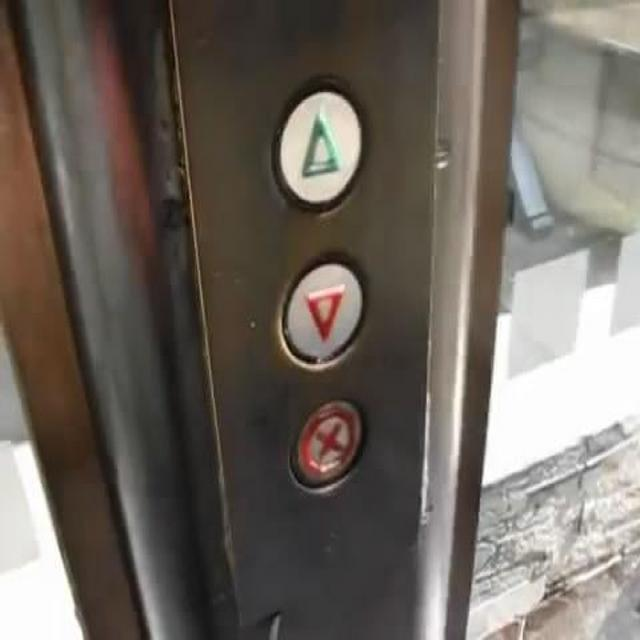down: (276, 249, 371, 371)
stop: (288, 397, 367, 492)
up: (270, 72, 367, 212)
